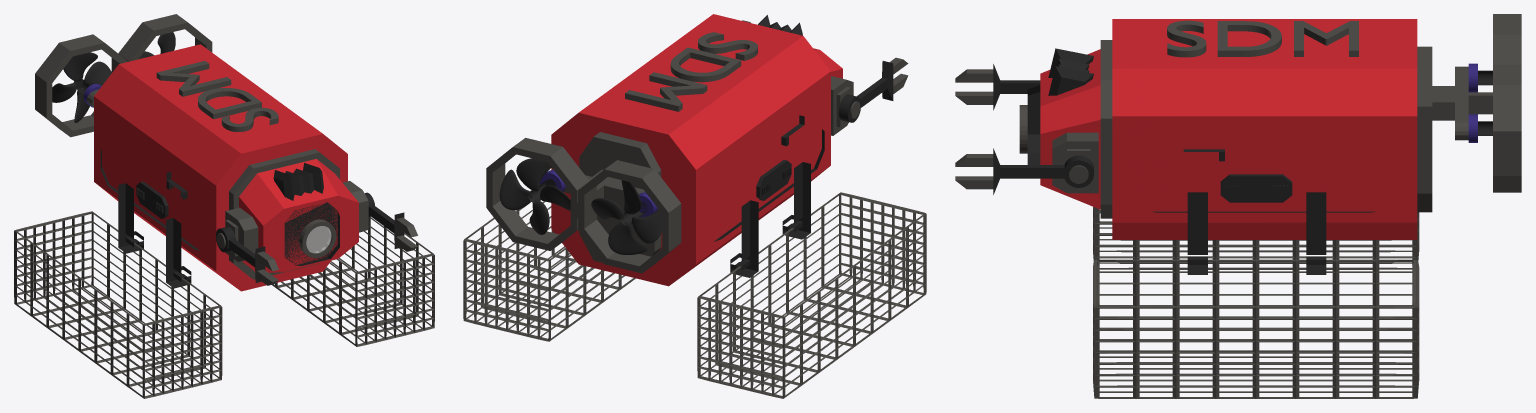
File: collector_manual.glb
3 renders of one model, left to right at view 1: azimuth 30°, elevation 25°; view 2: azimuth 150°, elevation 25°; view 3: azimuth 270°, elevation 25°, orthographic. The views are drawn at different scales.
Parts seen in each view (by area): view 1: main_body, camera_lens; view 2: main_body; view 3: main_body.
Part boxes in pixels (x1,y1,x2,y2): main_body: (14,14,434,398); camera_lens: (306,226,331,253); main_body: (463,14,926,398); main_body: (955,14,1521,398).
Size of the model in its own units: 4.09 by 2.95 by 5.53.
Materials: 3 (3 with a texture image).
